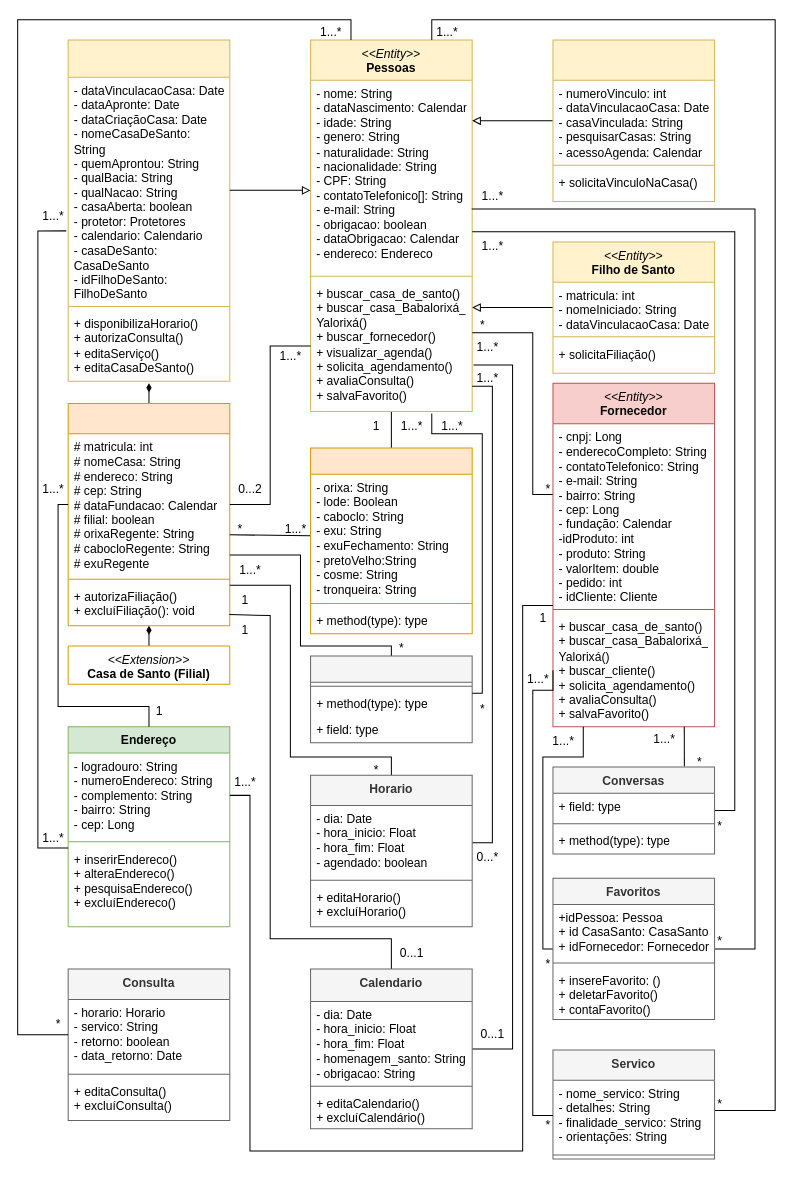
Some shapes in this 794 by 1177 pixel diagram are drawn without their labels. Here are the shapes that lost their labels. From the top down, the box of each, then its label:
(552, 39, 715, 201): <<Entity>> Cliente
(67, 39, 230, 381): <<Entity>> BabalorixáYalorixá
(67, 402, 230, 626): Casa de Santo
(310, 447, 472, 634): Protetores
(310, 655, 472, 743): Imagens
